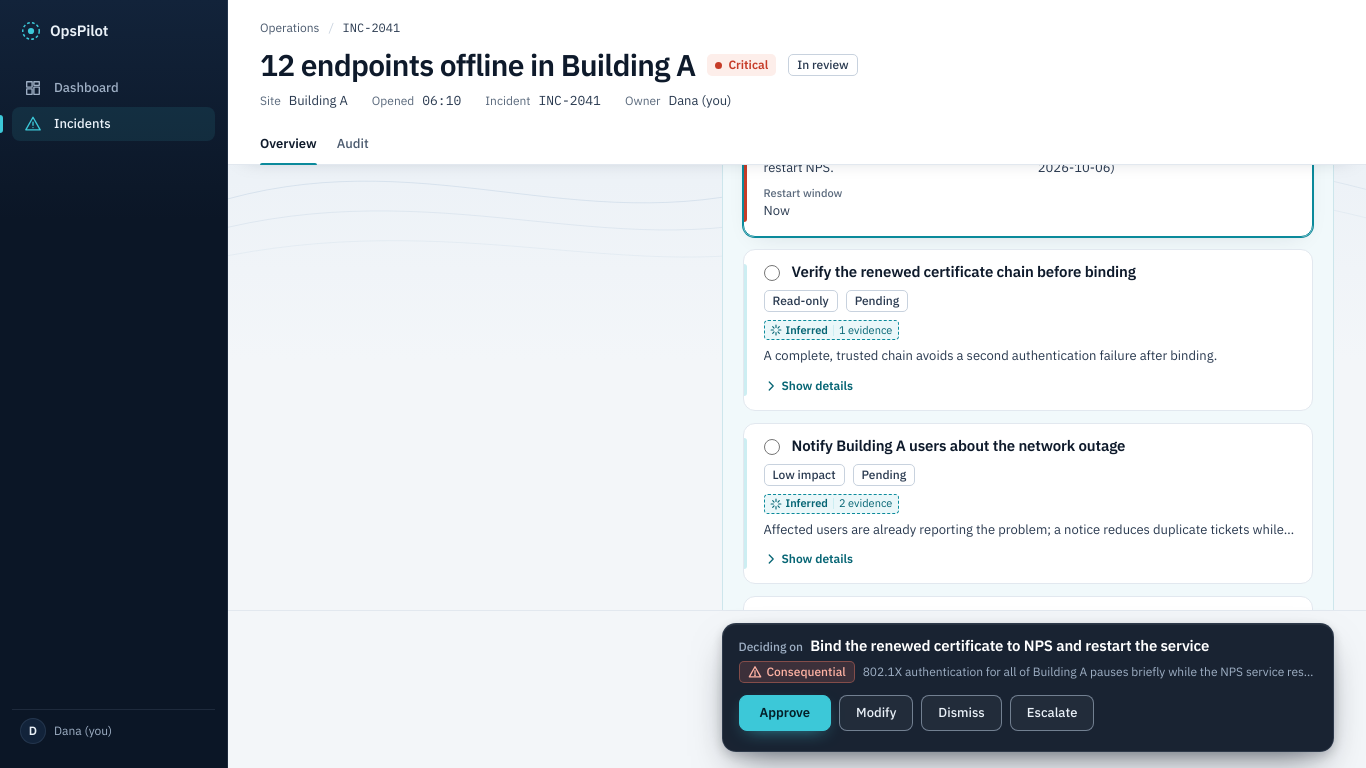
Test: Incident Detail: reserved decision dock and density › unselected recommendations are compact until selected or expanded; nothing is removed
The image size is (1366, 768).
(page scrolled)
Check: the text "Read-only" is shown, box [764,290,838,312]
Check: the text "Pending" next to "Read-only" is shown, box [855,293,899,308]
Click the button "Show details" below "Read-only" at (810, 386), box [762,374,859,398]
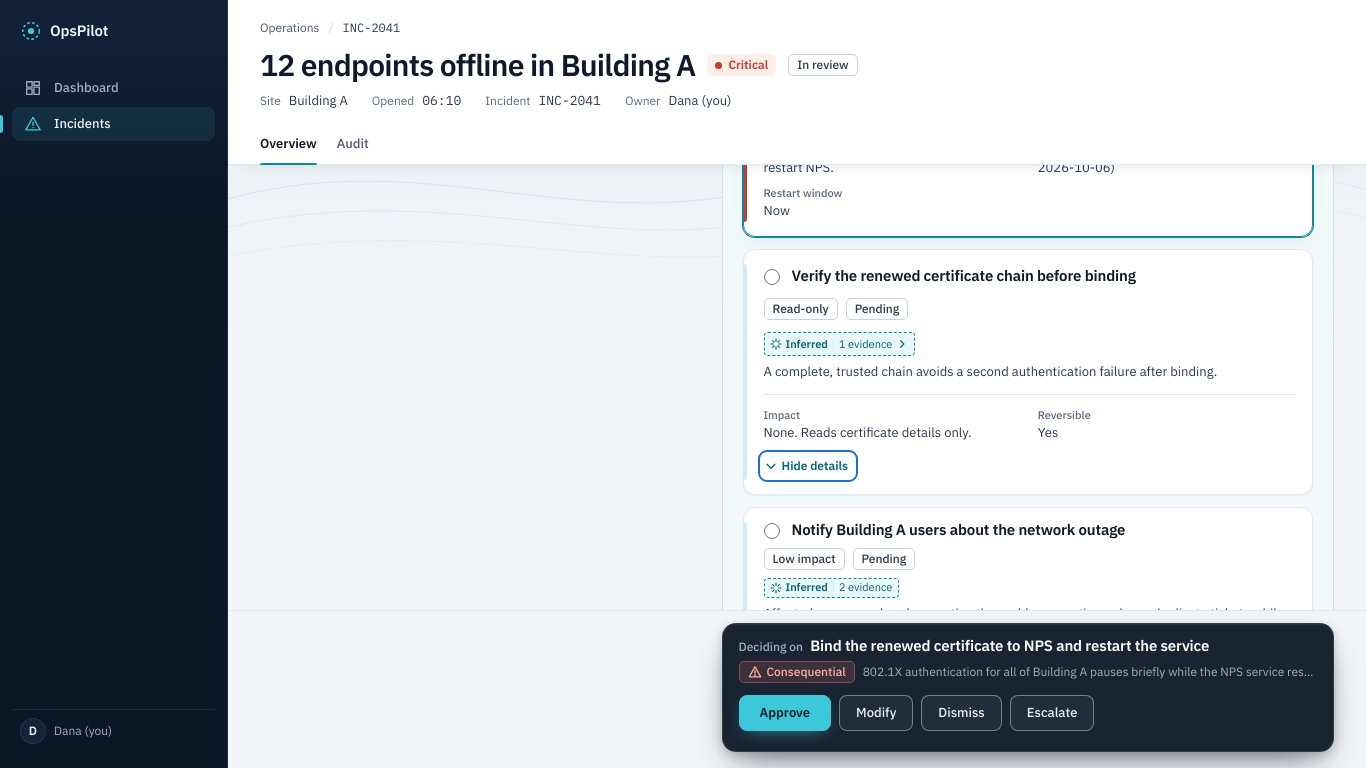
Check: the text "None. Reads certificate details only." is shown, box [764,424,972,441]
Click the button "Hide details" at (808, 466), box [762,454,854,478]
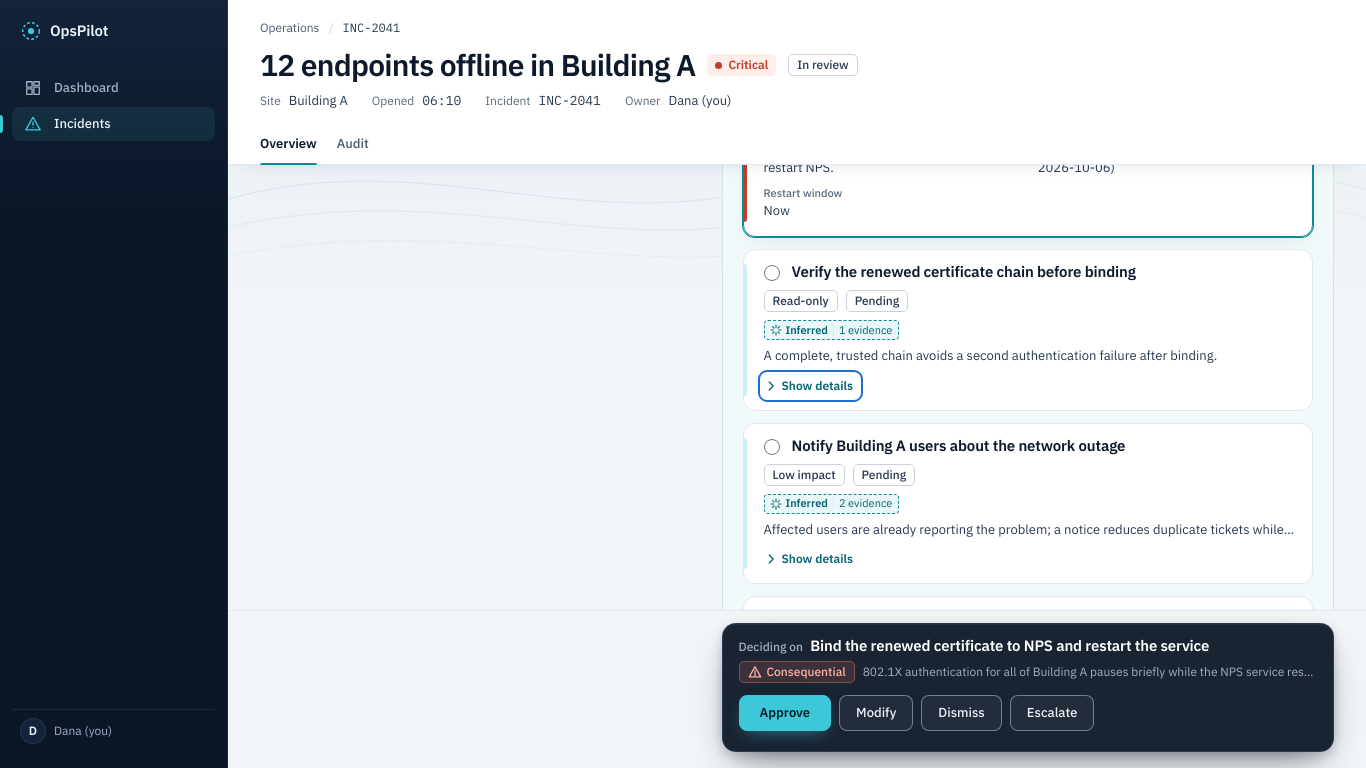
Check: the text "None. Reads certificate details only." is gone
Note: Selecting shows everything and needs no toggle.
Click the radio button labelled "Verify the renewed certificate chain before binding" at (772, 273), box [764,265,780,281]
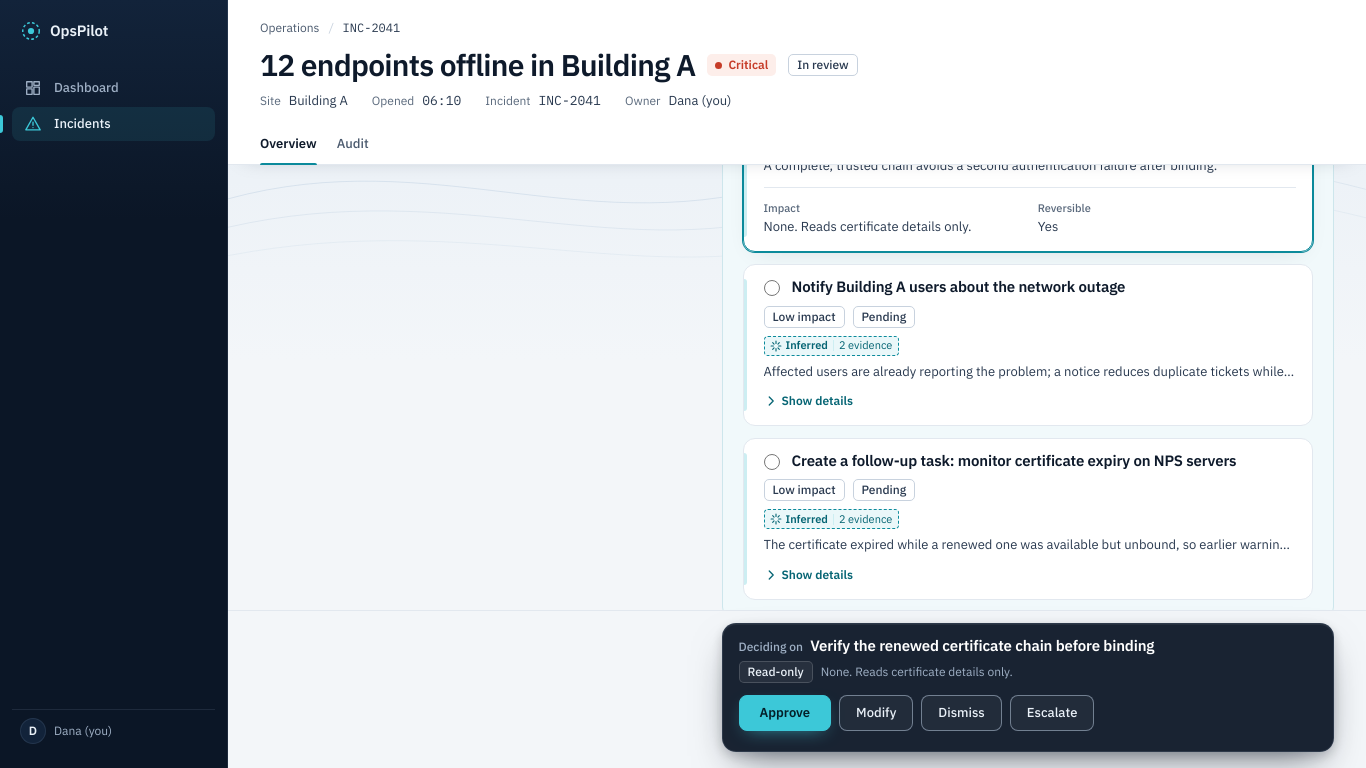
Check: the text "None. Reads certificate details only." next to "Yes" is shown, box [764,218,972,235]
Check: the text "Rebind the previous certificate binding" is gone
